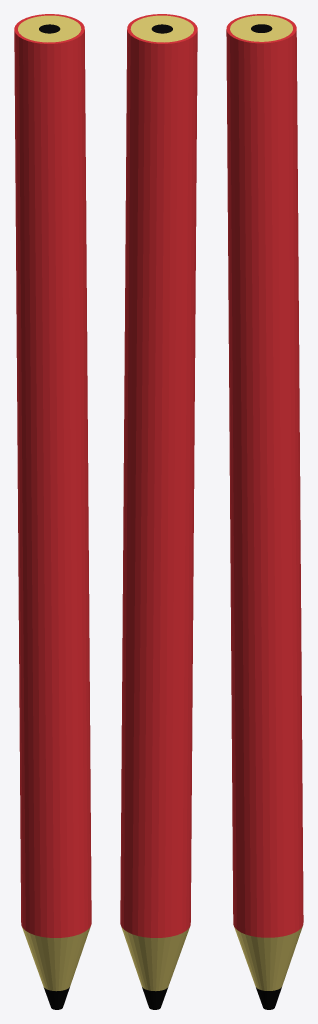
The model's file is pen2.fbx.
The picture shows the model from 3 angles, left to right: view 1: azimuth 30°, elevation 25°; view 2: azimuth 150°, elevation 25°; view 3: azimuth 330°, elevation 25°; orthographic projection.
Visible parts, largest first — view 1: 円柱.003; view 2: 円柱.003; view 3: 円柱.003.
Boxes of the visible parts, left/top/right/bottom form: 円柱.003: left=14, top=14, right=91, bottom=1009; 円柱.003: left=120, top=14, right=197, bottom=1009; 円柱.003: left=226, top=14, right=303, bottom=1009.
Bounding box in the file's own units: 77.06 × 1060 × 69.06.
